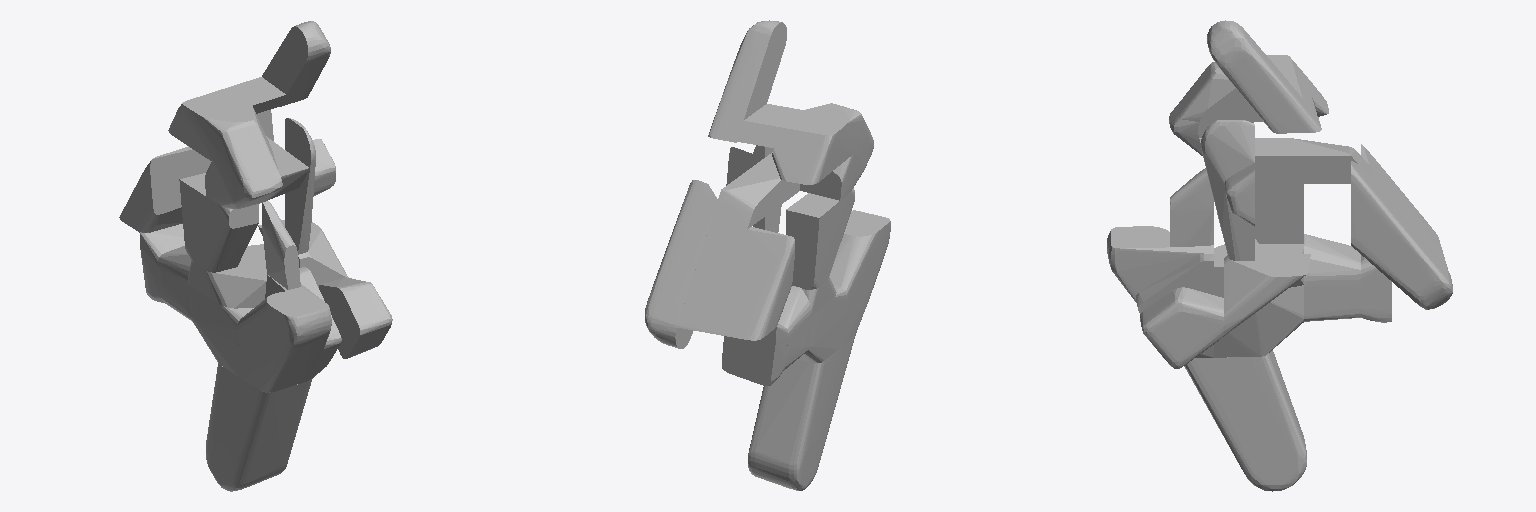
--- Render facts (derived) ---
Views: 3 orthographic renders of the robot side by side, from view 1: azimuth 30°, elevation 25°; view 2: azimuth 150°, elevation 25°; view 3: azimuth 270°, elevation 25°.
Model root with 34 links and 33 joints (33 fixed), rooted at link_coacd_convex_piece_0, posed all joints at 0.
Visible links, largest first — view 1: link_coacd_convex_piece_0, link_coacd_convex_piece_12, link_coacd_convex_piece_14, link_coacd_convex_piece_30, link_coacd_convex_piece_20, link_coacd_convex_piece_10, link_coacd_convex_piece_4, link_coacd_convex_piece_19, link_coacd_convex_piece_21, link_coacd_convex_piece_7, link_coacd_convex_piece_29, link_coacd_convex_piece_33 (+8 smaller); view 2: link_coacd_convex_piece_20, link_coacd_convex_piece_0, link_coacd_convex_piece_1, link_coacd_convex_piece_12, link_coacd_convex_piece_4, link_coacd_convex_piece_30, link_coacd_convex_piece_14, link_coacd_convex_piece_13, link_coacd_convex_piece_28, link_coacd_convex_piece_21, link_coacd_convex_piece_17, link_coacd_convex_piece_29 (+4 smaller); view 3: link_coacd_convex_piece_0, link_coacd_convex_piece_1, link_coacd_convex_piece_4, link_coacd_convex_piece_10, link_coacd_convex_piece_7, link_coacd_convex_piece_13, link_coacd_convex_piece_17, link_coacd_convex_piece_3, link_coacd_convex_piece_12, link_coacd_convex_piece_21, link_coacd_convex_piece_25, link_coacd_convex_piece_30 (+8 smaller).
Link boxes in pixels (x1,y1,x2,y2): link_coacd_convex_piece_0: (206,363,311,491); link_coacd_convex_piece_12: (168,88,278,179); link_coacd_convex_piece_14: (238,291,315,392); link_coacd_convex_piece_30: (179,173,258,272); link_coacd_convex_piece_20: (119,146,211,232); link_coacd_convex_piece_10: (319,277,392,358); link_coacd_convex_piece_4: (262,21,330,106); link_coacd_convex_piece_19: (188,244,266,308); link_coacd_convex_piece_21: (189,285,253,379); link_coacd_convex_piece_7: (285,118,315,254); link_coacd_convex_piece_29: (205,162,282,208); link_coacd_convex_piece_33: (262,201,300,289); link_coacd_convex_piece_20: (677,223,794,340); link_coacd_convex_piece_0: (748,334,855,490); link_coacd_convex_piece_1: (645,180,717,348); link_coacd_convex_piece_12: (772,103,871,184); link_coacd_convex_piece_4: (708,20,786,142); link_coacd_convex_piece_30: (786,188,854,289); link_coacd_convex_piece_14: (829,214,890,345); link_coacd_convex_piece_13: (711,152,799,229); link_coacd_convex_piece_28: (722,324,787,385); link_coacd_convex_piece_21: (799,284,846,362); link_coacd_convex_piece_17: (778,286,810,369); link_coacd_convex_piece_29: (800,137,873,200); link_coacd_convex_piece_0: (1184,350,1306,491); link_coacd_convex_piece_1: (1351,161,1452,309); link_coacd_convex_piece_4: (1207,20,1321,133); link_coacd_convex_piece_10: (1140,287,1223,368); link_coacd_convex_piece_7: (1201,120,1254,260); link_coacd_convex_piece_13: (1199,138,1374,183); link_coacd_convex_piece_17: (1304,234,1360,321); link_coacd_convex_piece_3: (1224,254,1310,335); link_coacd_convex_piece_12: (1178,55,1328,121); link_coacd_convex_piece_21: (1214,285,1303,357); link_coacd_convex_piece_25: (1108,240,1213,301); link_coacd_convex_piece_30: (1255,184,1303,243).
Size in the robot's own frame: 0.0387 by 0.0782 by 0.1194 metres.
Meshes: 34 distinct files referenced, 21 mesh visuals loaded (21 OBJ); not drawn: 13 (reference not matched to a file when rendering).

The robot description file, URDF, robot "root":
<robot name="root">
  <link name="link_coacd_convex_piece_0">
    <inertial>
      <origin xyz="0 0 0" rpy="0 0 0"/>
      <inertia ixx="1.10E-08" ixy="-1.74E-10" ixz="-1.11E-09" iyy="1.06E-08" iyz="-1.51E-09" izz="7.00E-10"/>
    </inertial>
    <visual>
      <origin xyz="0 0 0" rpy="0 0 0"/>
      <geometry>
        <mesh filename="coacd_convex_piece_0.obj" scale="1.0000E+00 1.0000E+00 1.0000E+00"/>
      </geometry>
      <material name="">
        <color rgba="7.50E-01 7.50E-01 7.50E-01 1"/>
      </material>
    </visual>
    <collision>
      <origin xyz="0 0 0" rpy="0 0 0"/>
      <geometry>
        <mesh filename="coacd_convex_piece_0.obj" scale="1.0000E+00 1.0000E+00 1.0000E+00"/>
      </geometry>
    </collision>
  </link>
  <link name="link_coacd_convex_piece_1">
    <inertial>
      <origin xyz="0 0 0" rpy="0 0 0"/>
      <inertia ixx="1.89E-09" ixy="-5.83E-10" ixz="-1.59E-10" iyy="3.74E-10" iyz="-2.65E-10" izz="1.94E-09"/>
    </inertial>
    <visual>
      <origin xyz="0 0 0" rpy="0 0 0"/>
      <geometry>
        <mesh filename="coacd_convex_piece_1.obj" scale="1.0000E+00 1.0000E+00 1.0000E+00"/>
      </geometry>
      <material name="">
        <color rgba="7.50E-01 7.50E-01 7.50E-01 1"/>
      </material>
    </visual>
    <collision>
      <origin xyz="0 0 0" rpy="0 0 0"/>
      <geometry>
        <mesh filename="coacd_convex_piece_1.obj" scale="1.0000E+00 1.0000E+00 1.0000E+00"/>
      </geometry>
    </collision>
  </link>
  <joint name="link_coacd_convex_piece_1_joint" type="fixed">
    <origin xyz="0 0 0" rpy="0 0 0"/>
    <parent link="link_coacd_convex_piece_0"/>
    <child link="link_coacd_convex_piece_1"/>
  </joint>
  <link name="link_coacd_convex_piece_2">
    <inertial>
      <origin xyz="0 0 0" rpy="0 0 0"/>
      <inertia ixx="1.14E-10" ixy="-6.28E-13" ixz="-2.78E-11" iyy="1.17E-10" iyz="-2.30E-12" izz="8.78E-12"/>
    </inertial>
    <visual>
      <origin xyz="0 0 0" rpy="0 0 0"/>
      <geometry>
        <mesh filename="coacd_convex_piece_2.obj" scale="1.0000E+00 1.0000E+00 1.0000E+00"/>
      </geometry>
      <material name="">
        <color rgba="7.50E-01 7.50E-01 7.50E-01 1"/>
      </material>
    </visual>
    <collision>
      <origin xyz="0 0 0" rpy="0 0 0"/>
      <geometry>
        <mesh filename="coacd_convex_piece_2.obj" scale="1.0000E+00 1.0000E+00 1.0000E+00"/>
      </geometry>
    </collision>
  </link>
  <joint name="link_coacd_convex_piece_2_joint" type="fixed">
    <origin xyz="0 0 0" rpy="0 0 0"/>
    <parent link="link_coacd_convex_piece_1"/>
    <child link="link_coacd_convex_piece_2"/>
  </joint>
  <link name="link_coacd_convex_piece_3">
    <inertial>
      <origin xyz="0 0 0" rpy="0 0 0"/>
      <inertia ixx="6.95E-11" ixy="7.54E-11" ixz="3.57E-11" iyy="1.37E-10" iyz="-4.54E-11" izz="1.99E-10"/>
    </inertial>
    <visual>
      <origin xyz="0 0 0" rpy="0 0 0"/>
      <geometry>
        <mesh filename="coacd_convex_piece_3.obj" scale="1.0000E+00 1.0000E+00 1.0000E+00"/>
      </geometry>
      <material name="">
        <color rgba="7.50E-01 7.50E-01 7.50E-01 1"/>
      </material>
    </visual>
    <collision>
      <origin xyz="0 0 0" rpy="0 0 0"/>
      <geometry>
        <mesh filename="coacd_convex_piece_3.obj" scale="1.0000E+00 1.0000E+00 1.0000E+00"/>
      </geometry>
    </collision>
  </link>
  <joint name="link_coacd_convex_piece_3_joint" type="fixed">
    <origin xyz="0 0 0" rpy="0 0 0"/>
    <parent link="link_coacd_convex_piece_2"/>
    <child link="link_coacd_convex_piece_3"/>
  </joint>
  <link name="link_coacd_convex_piece_4">
    <inertial>
      <origin xyz="0 0 0" rpy="0 0 0"/>
      <inertia ixx="3.30E-09" ixy="5.85E-11" ixz="-5.91E-10" iyy="3.32E-09" iyz="3.61E-10" izz="1.79E-10"/>
    </inertial>
    <visual>
      <origin xyz="0 0 0" rpy="0 0 0"/>
      <geometry>
        <mesh filename="coacd_convex_piece_4.obj" scale="1.0000E+00 1.0000E+00 1.0000E+00"/>
      </geometry>
      <material name="">
        <color rgba="7.50E-01 7.50E-01 7.50E-01 1"/>
      </material>
    </visual>
    <collision>
      <origin xyz="0 0 0" rpy="0 0 0"/>
      <geometry>
        <mesh filename="coacd_convex_piece_4.obj" scale="1.0000E+00 1.0000E+00 1.0000E+00"/>
      </geometry>
    </collision>
  </link>
  <joint name="link_coacd_convex_piece_4_joint" type="fixed">
    <origin xyz="0 0 0" rpy="0 0 0"/>
    <parent link="link_coacd_convex_piece_3"/>
    <child link="link_coacd_convex_piece_4"/>
  </joint>
  <link name="link_coacd_convex_piece_5">
    <inertial>
      <origin xyz="0 0 0" rpy="0 0 0"/>
      <inertia ixx="2.37E-10" ixy="-4.33E-12" ixz="4.08E-11" iyy="2.45E-10" iyz="2.05E-11" izz="1.71E-11"/>
    </inertial>
    <visual>
      <origin xyz="0 0 0" rpy="0 0 0"/>
      <geometry>
        <mesh filename="coacd_convex_piece_5.obj" scale="1.0000E+00 1.0000E+00 1.0000E+00"/>
      </geometry>
      <material name="">
        <color rgba="7.50E-01 7.50E-01 7.50E-01 1"/>
      </material>
    </visual>
    <collision>
      <origin xyz="0 0 0" rpy="0 0 0"/>
      <geometry>
        <mesh filename="coacd_convex_piece_5.obj" scale="1.0000E+00 1.0000E+00 1.0000E+00"/>
      </geometry>
    </collision>
  </link>
  <joint name="link_coacd_convex_piece_5_joint" type="fixed">
    <origin xyz="0 0 0" rpy="0 0 0"/>
    <parent link="link_coacd_convex_piece_4"/>
    <child link="link_coacd_convex_piece_5"/>
  </joint>
  <link name="link_coacd_convex_piece_6">
    <inertial>
      <origin xyz="0 0 0" rpy="0 0 0"/>
      <inertia ixx="5.84E-10" ixy="1.48E-10" ixz="6.36E-11" iyy="1.65E-10" iyz="-2.46E-10" izz="5.06E-10"/>
    </inertial>
    <visual>
      <origin xyz="0 0 0" rpy="0 0 0"/>
      <geometry>
        <mesh filename="coacd_convex_piece_6.obj" scale="1.0000E+00 1.0000E+00 1.0000E+00"/>
      </geometry>
      <material name="">
        <color rgba="7.50E-01 7.50E-01 7.50E-01 1"/>
      </material>
    </visual>
    <collision>
      <origin xyz="0 0 0" rpy="0 0 0"/>
      <geometry>
        <mesh filename="coacd_convex_piece_6.obj" scale="1.0000E+00 1.0000E+00 1.0000E+00"/>
      </geometry>
    </collision>
  </link>
  <joint name="link_coacd_convex_piece_6_joint" type="fixed">
    <origin xyz="0 0 0" rpy="0 0 0"/>
    <parent link="link_coacd_convex_piece_5"/>
    <child link="link_coacd_convex_piece_6"/>
  </joint>
  <link name="link_coacd_convex_piece_7">
    <inertial>
      <origin xyz="0 0 0" rpy="0 0 0"/>
      <inertia ixx="3.35E-10" ixy="4.35E-11" ixz="-8.23E-11" iyy="2.78E-10" iyz="1.29E-10" izz="9.85E-11"/>
    </inertial>
    <visual>
      <origin xyz="0 0 0" rpy="0 0 0"/>
      <geometry>
        <mesh filename="coacd_convex_piece_7.obj" scale="1.0000E+00 1.0000E+00 1.0000E+00"/>
      </geometry>
      <material name="">
        <color rgba="7.50E-01 7.50E-01 7.50E-01 1"/>
      </material>
    </visual>
    <collision>
      <origin xyz="0 0 0" rpy="0 0 0"/>
      <geometry>
        <mesh filename="coacd_convex_piece_7.obj" scale="1.0000E+00 1.0000E+00 1.0000E+00"/>
      </geometry>
    </collision>
  </link>
  <joint name="link_coacd_convex_piece_7_joint" type="fixed">
    <origin xyz="0 0 0" rpy="0 0 0"/>
    <parent link="link_coacd_convex_piece_6"/>
    <child link="link_coacd_convex_piece_7"/>
  </joint>
  <link name="link_coacd_convex_piece_8">
    <inertial>
      <origin xyz="0 0 0" rpy="0 0 0"/>
      <inertia ixx="1.38E-10" ixy="3.18E-11" ixz="-7.66E-11" iyy="1.57E-10" iyz="5.07E-11" izz="6.57E-11"/>
    </inertial>
    <visual>
      <origin xyz="0 0 0" rpy="0 0 0"/>
      <geometry>
        <mesh filename="coacd_convex_piece_8.obj" scale="1.0000E+00 1.0000E+00 1.0000E+00"/>
      </geometry>
      <material name="">
        <color rgba="7.50E-01 7.50E-01 7.50E-01 1"/>
      </material>
    </visual>
    <collision>
      <origin xyz="0 0 0" rpy="0 0 0"/>
      <geometry>
        <mesh filename="coacd_convex_piece_8.obj" scale="1.0000E+00 1.0000E+00 1.0000E+00"/>
      </geometry>
    </collision>
  </link>
  <joint name="link_coacd_convex_piece_8_joint" type="fixed">
    <origin xyz="0 0 0" rpy="0 0 0"/>
    <parent link="link_coacd_convex_piece_7"/>
    <child link="link_coacd_convex_piece_8"/>
  </joint>
  <link name="link_coacd_convex_piece_9">
    <inertial>
      <origin xyz="0 0 0" rpy="0 0 0"/>
      <inertia ixx="8.03E-09" ixy="-2.01E-10" ixz="1.08E-09" iyy="8.02E-09" iyz="1.37E-09" izz="5.84E-10"/>
    </inertial>
    <visual>
      <origin xyz="0 0 0" rpy="0 0 0"/>
      <geometry>
        <mesh filename="coacd_convex_piece_9.obj" scale="1.0000E+00 1.0000E+00 1.0000E+00"/>
      </geometry>
      <material name="">
        <color rgba="7.50E-01 7.50E-01 7.50E-01 1"/>
      </material>
    </visual>
    <collision>
      <origin xyz="0 0 0" rpy="0 0 0"/>
      <geometry>
        <mesh filename="coacd_convex_piece_9.obj" scale="1.0000E+00 1.0000E+00 1.0000E+00"/>
      </geometry>
    </collision>
  </link>
  <joint name="link_coacd_convex_piece_9_joint" type="fixed">
    <origin xyz="0 0 0" rpy="0 0 0"/>
    <parent link="link_coacd_convex_piece_8"/>
    <child link="link_coacd_convex_piece_9"/>
  </joint>
  <link name="link_coacd_convex_piece_10">
    <inertial>
      <origin xyz="0 0 0" rpy="0 0 0"/>
      <inertia ixx="8.82E-10" ixy="4.33E-10" ixz="2.24E-10" iyy="4.73E-10" iyz="-3.81E-10" izz="9.68E-10"/>
    </inertial>
    <visual>
      <origin xyz="0 0 0" rpy="0 0 0"/>
      <geometry>
        <mesh filename="coacd_convex_piece_10.obj" scale="1.0000E+00 1.0000E+00 1.0000E+00"/>
      </geometry>
      <material name="">
        <color rgba="7.50E-01 7.50E-01 7.50E-01 1"/>
      </material>
    </visual>
    <collision>
      <origin xyz="0 0 0" rpy="0 0 0"/>
      <geometry>
        <mesh filename="coacd_convex_piece_10.obj" scale="1.0000E+00 1.0000E+00 1.0000E+00"/>
      </geometry>
    </collision>
  </link>
  <joint name="link_coacd_convex_piece_10_joint" type="fixed">
    <origin xyz="0 0 0" rpy="0 0 0"/>
    <parent link="link_coacd_convex_piece_9"/>
    <child link="link_coacd_convex_piece_10"/>
  </joint>
  <link name="link_coacd_convex_piece_11">
    <inertial>
      <origin xyz="0 0 0" rpy="0 0 0"/>
      <inertia ixx="5.35E-11" ixy="-2.00E-11" ixz="1.71E-11" iyy="3.63E-11" iyz="2.74E-11" izz="4.38E-11"/>
    </inertial>
    <visual>
      <origin xyz="0 0 0" rpy="0 0 0"/>
      <geometry>
        <mesh filename="coacd_convex_piece_11.obj" scale="1.0000E+00 1.0000E+00 1.0000E+00"/>
      </geometry>
      <material name="">
        <color rgba="7.50E-01 7.50E-01 7.50E-01 1"/>
      </material>
    </visual>
    <collision>
      <origin xyz="0 0 0" rpy="0 0 0"/>
      <geometry>
        <mesh filename="coacd_convex_piece_11.obj" scale="1.0000E+00 1.0000E+00 1.0000E+00"/>
      </geometry>
    </collision>
  </link>
  <joint name="link_coacd_convex_piece_11_joint" type="fixed">
    <origin xyz="0 0 0" rpy="0 0 0"/>
    <parent link="link_coacd_convex_piece_10"/>
    <child link="link_coacd_convex_piece_11"/>
  </joint>
  <link name="link_coacd_convex_piece_12">
    <inertial>
      <origin xyz="0 0 0" rpy="0 0 0"/>
      <inertia ixx="3.13E-09" ixy="-1.59E-10" ixz="9.92E-10" iyy="3.28E-09" iyz="4.65E-10" izz="5.92E-10"/>
    </inertial>
    <visual>
      <origin xyz="0 0 0" rpy="0 0 0"/>
      <geometry>
        <mesh filename="coacd_convex_piece_12.obj" scale="1.0000E+00 1.0000E+00 1.0000E+00"/>
      </geometry>
      <material name="">
        <color rgba="7.50E-01 7.50E-01 7.50E-01 1"/>
      </material>
    </visual>
    <collision>
      <origin xyz="0 0 0" rpy="0 0 0"/>
      <geometry>
        <mesh filename="coacd_convex_piece_12.obj" scale="1.0000E+00 1.0000E+00 1.0000E+00"/>
      </geometry>
    </collision>
  </link>
  <joint name="link_coacd_convex_piece_12_joint" type="fixed">
    <origin xyz="0 0 0" rpy="0 0 0"/>
    <parent link="link_coacd_convex_piece_11"/>
    <child link="link_coacd_convex_piece_12"/>
  </joint>
  <link name="link_coacd_convex_piece_13">
    <inertial>
      <origin xyz="0 0 0" rpy="0 0 0"/>
      <inertia ixx="9.59E-10" ixy="1.23E-12" ixz="-3.57E-12" iyy="7.96E-10" iyz="-3.59E-11" izz="1.67E-10"/>
    </inertial>
    <visual>
      <origin xyz="0 0 0" rpy="0 0 0"/>
      <geometry>
        <mesh filename="coacd_convex_piece_13.obj" scale="1.0000E+00 1.0000E+00 1.0000E+00"/>
      </geometry>
      <material name="">
        <color rgba="7.50E-01 7.50E-01 7.50E-01 1"/>
      </material>
    </visual>
    <collision>
      <origin xyz="0 0 0" rpy="0 0 0"/>
      <geometry>
        <mesh filename="coacd_convex_piece_13.obj" scale="1.0000E+00 1.0000E+00 1.0000E+00"/>
      </geometry>
    </collision>
  </link>
  <joint name="link_coacd_convex_piece_13_joint" type="fixed">
    <origin xyz="0 0 0" rpy="0 0 0"/>
    <parent link="link_coacd_convex_piece_12"/>
    <child link="link_coacd_convex_piece_13"/>
  </joint>
  <link name="link_coacd_convex_piece_14">
    <inertial>
      <origin xyz="0 0 0" rpy="0 0 0"/>
      <inertia ixx="1.63E-09" ixy="-4.79E-10" ixz="-2.41E-10" iyy="4.69E-10" iyz="-5.33E-10" izz="1.52E-09"/>
    </inertial>
    <visual>
      <origin xyz="0 0 0" rpy="0 0 0"/>
      <geometry>
        <mesh filename="coacd_convex_piece_14.obj" scale="1.0000E+00 1.0000E+00 1.0000E+00"/>
      </geometry>
      <material name="">
        <color rgba="7.50E-01 7.50E-01 7.50E-01 1"/>
      </material>
    </visual>
    <collision>
      <origin xyz="0 0 0" rpy="0 0 0"/>
      <geometry>
        <mesh filename="coacd_convex_piece_14.obj" scale="1.0000E+00 1.0000E+00 1.0000E+00"/>
      </geometry>
    </collision>
  </link>
  <joint name="link_coacd_convex_piece_14_joint" type="fixed">
    <origin xyz="0 0 0" rpy="0 0 0"/>
    <parent link="link_coacd_convex_piece_13"/>
    <child link="link_coacd_convex_piece_14"/>
  </joint>
  <link name="link_coacd_convex_piece_15">
    <inertial>
      <origin xyz="0 0 0" rpy="0 0 0"/>
      <inertia ixx="8.56E-10" ixy="2.65E-10" ixz="1.87E-10" iyy="6.19E-10" iyz="-4.30E-10" izz="7.41E-10"/>
    </inertial>
    <visual>
      <origin xyz="0 0 0" rpy="0 0 0"/>
      <geometry>
        <mesh filename="coacd_convex_piece_15.obj" scale="1.0000E+00 1.0000E+00 1.0000E+00"/>
      </geometry>
      <material name="">
        <color rgba="7.50E-01 7.50E-01 7.50E-01 1"/>
      </material>
    </visual>
    <collision>
      <origin xyz="0 0 0" rpy="0 0 0"/>
      <geometry>
        <mesh filename="coacd_convex_piece_15.obj" scale="1.0000E+00 1.0000E+00 1.0000E+00"/>
      </geometry>
    </collision>
  </link>
  <joint name="link_coacd_convex_piece_15_joint" type="fixed">
    <origin xyz="0 0 0" rpy="0 0 0"/>
    <parent link="link_coacd_convex_piece_14"/>
    <child link="link_coacd_convex_piece_15"/>
  </joint>
  <link name="link_coacd_convex_piece_16">
    <inertial>
      <origin xyz="0 0 0" rpy="0 0 0"/>
      <inertia ixx="1.21E-09" ixy="-1.54E-10" ixz="-6.24E-10" iyy="1.43E-09" iyz="-2.61E-10" izz="5.58E-10"/>
    </inertial>
    <visual>
      <origin xyz="0 0 0" rpy="0 0 0"/>
      <geometry>
        <mesh filename="coacd_convex_piece_16.obj" scale="1.0000E+00 1.0000E+00 1.0000E+00"/>
      </geometry>
      <material name="">
        <color rgba="7.50E-01 7.50E-01 7.50E-01 1"/>
      </material>
    </visual>
    <collision>
      <origin xyz="0 0 0" rpy="0 0 0"/>
      <geometry>
        <mesh filename="coacd_convex_piece_16.obj" scale="1.0000E+00 1.0000E+00 1.0000E+00"/>
      </geometry>
    </collision>
  </link>
  <joint name="link_coacd_convex_piece_16_joint" type="fixed">
    <origin xyz="0 0 0" rpy="0 0 0"/>
    <parent link="link_coacd_convex_piece_15"/>
    <child link="link_coacd_convex_piece_16"/>
  </joint>
  <link name="link_coacd_convex_piece_17">
    <inertial>
      <origin xyz="0 0 0" rpy="0 0 0"/>
      <inertia ixx="5.18E-10" ixy="1.91E-10" ixz="-2.03E-10" iyy="3.77E-10" iyz="2.48E-10" izz="4.38E-10"/>
    </inertial>
    <visual>
      <origin xyz="0 0 0" rpy="0 0 0"/>
      <geometry>
        <mesh filename="coacd_convex_piece_17.obj" scale="1.0000E+00 1.0000E+00 1.0000E+00"/>
      </geometry>
      <material name="">
        <color rgba="7.50E-01 7.50E-01 7.50E-01 1"/>
      </material>
    </visual>
    <collision>
      <origin xyz="0 0 0" rpy="0 0 0"/>
      <geometry>
        <mesh filename="coacd_convex_piece_17.obj" scale="1.0000E+00 1.0000E+00 1.0000E+00"/>
      </geometry>
    </collision>
  </link>
  <joint name="link_coacd_convex_piece_17_joint" type="fixed">
    <origin xyz="0 0 0" rpy="0 0 0"/>
    <parent link="link_coacd_convex_piece_16"/>
    <child link="link_coacd_convex_piece_17"/>
  </joint>
  <link name="link_coacd_convex_piece_18">
    <inertial>
      <origin xyz="0 0 0" rpy="0 0 0"/>
      <inertia ixx="8.36E-10" ixy="-5.83E-11" ixz="-2.36E-10" iyy="7.69E-10" iyz="-1.83E-10" izz="1.92E-10"/>
    </inertial>
    <visual>
      <origin xyz="0 0 0" rpy="0 0 0"/>
      <geometry>
        <mesh filename="coacd_convex_piece_18.obj" scale="1.0000E+00 1.0000E+00 1.0000E+00"/>
      </geometry>
      <material name="">
        <color rgba="7.50E-01 7.50E-01 7.50E-01 1"/>
      </material>
    </visual>
    <collision>
      <origin xyz="0 0 0" rpy="0 0 0"/>
      <geometry>
        <mesh filename="coacd_convex_piece_18.obj" scale="1.0000E+00 1.0000E+00 1.0000E+00"/>
      </geometry>
    </collision>
  </link>
  <joint name="link_coacd_convex_piece_18_joint" type="fixed">
    <origin xyz="0 0 0" rpy="0 0 0"/>
    <parent link="link_coacd_convex_piece_17"/>
    <child link="link_coacd_convex_piece_18"/>
  </joint>
  <link name="link_coacd_convex_piece_19">
    <inertial>
      <origin xyz="0 0 0" rpy="0 0 0"/>
      <inertia ixx="9.37E-11" ixy="-1.92E-11" ixz="-6.92E-11" iyy="8.79E-11" iyz="-4.63E-11" izz="1.61E-10"/>
    </inertial>
    <visual>
      <origin xyz="0 0 0" rpy="0 0 0"/>
      <geometry>
        <mesh filename="coacd_convex_piece_19.obj" scale="1.0000E+00 1.0000E+00 1.0000E+00"/>
      </geometry>
      <material name="">
        <color rgba="7.50E-01 7.50E-01 7.50E-01 1"/>
      </material>
    </visual>
    <collision>
      <origin xyz="0 0 0" rpy="0 0 0"/>
      <geometry>
        <mesh filename="coacd_convex_piece_19.obj" scale="1.0000E+00 1.0000E+00 1.0000E+00"/>
      </geometry>
    </collision>
  </link>
  <joint name="link_coacd_convex_piece_19_joint" type="fixed">
    <origin xyz="0 0 0" rpy="0 0 0"/>
    <parent link="link_coacd_convex_piece_18"/>
    <child link="link_coacd_convex_piece_19"/>
  </joint>
  <link name="link_coacd_convex_piece_20">
    <inertial>
      <origin xyz="0 0 0" rpy="0 0 0"/>
      <inertia ixx="2.14E-09" ixy="4.79E-10" ixz="6.40E-11" iyy="3.36E-10" iyz="-4.14E-10" izz="2.24E-09"/>
    </inertial>
    <visual>
      <origin xyz="0 0 0" rpy="0 0 0"/>
      <geometry>
        <mesh filename="coacd_convex_piece_20.obj" scale="1.0000E+00 1.0000E+00 1.0000E+00"/>
      </geometry>
      <material name="">
        <color rgba="7.50E-01 7.50E-01 7.50E-01 1"/>
      </material>
    </visual>
    <collision>
      <origin xyz="0 0 0" rpy="0 0 0"/>
      <geometry>
        <mesh filename="coacd_convex_piece_20.obj" scale="1.0000E+00 1.0000E+00 1.0000E+00"/>
      </geometry>
    </collision>
  </link>
  <joint name="link_coacd_convex_piece_20_joint" type="fixed">
    <origin xyz="0 0 0" rpy="0 0 0"/>
    <parent link="link_coacd_convex_piece_19"/>
    <child link="link_coacd_convex_piece_20"/>
  </joint>
  <link name="link_coacd_convex_piece_21">
    <inertial>
      <origin xyz="0 0 0" rpy="0 0 0"/>
      <inertia ixx="1.21E-09" ixy="-9.12E-11" ixz="-3.88E-10" iyy="1.15E-09" iyz="-3.67E-10" izz="4.02E-10"/>
    </inertial>
    <visual>
      <origin xyz="0 0 0" rpy="0 0 0"/>
      <geometry>
        <mesh filename="coacd_convex_piece_21.obj" scale="1.0000E+00 1.0000E+00 1.0000E+00"/>
      </geometry>
      <material name="">
        <color rgba="7.50E-01 7.50E-01 7.50E-01 1"/>
      </material>
    </visual>
    <collision>
      <origin xyz="0 0 0" rpy="0 0 0"/>
      <geometry>
        <mesh filename="coacd_convex_piece_21.obj" scale="1.0000E+00 1.0000E+00 1.0000E+00"/>
      </geometry>
    </collision>
  </link>
  <joint name="link_coacd_convex_piece_21_joint" type="fixed">
    <origin xyz="0 0 0" rpy="0 0 0"/>
    <parent link="link_coacd_convex_piece_20"/>
    <child link="link_coacd_convex_piece_21"/>
  </joint>
  <link name="link_coacd_convex_piece_22">
    <inertial>
      <origin xyz="0 0 0" rpy="0 0 0"/>
      <inertia ixx="7.02E-10" ixy="4.30E-11" ixz="1.06E-11" iyy="1.95E-10" iyz="-3.07E-10" izz="5.03E-10"/>
    </inertial>
    <visual>
      <origin xyz="0 0 0" rpy="0 0 0"/>
      <geometry>
        <mesh filename="coacd_convex_piece_22.obj" scale="1.0000E+00 1.0000E+00 1.0000E+00"/>
      </geometry>
      <material name="">
        <color rgba="7.50E-01 7.50E-01 7.50E-01 1"/>
      </material>
    </visual>
    <collision>
      <origin xyz="0 0 0" rpy="0 0 0"/>
      <geometry>
        <mesh filename="coacd_convex_piece_22.obj" scale="1.0000E+00 1.0000E+00 1.0000E+00"/>
      </geometry>
    </collision>
  </link>
  <joint name="link_coacd_convex_piece_22_joint" type="fixed">
    <origin xyz="0 0 0" rpy="0 0 0"/>
    <parent link="link_coacd_convex_piece_21"/>
    <child link="link_coacd_convex_piece_22"/>
  </joint>
  <link name="link_coacd_convex_piece_23">
    <inertial>
      <origin xyz="0 0 0" rpy="0 0 0"/>
      <inertia ixx="5.76E-10" ixy="-1.51E-10" ixz="9.67E-12" iyy="3.80E-11" iyz="6.35E-11" izz="6.22E-10"/>
    </inertial>
    <visual>
      <origin xyz="0 0 0" rpy="0 0 0"/>
      <geometry>
        <mesh filename="coacd_convex_piece_23.obj" scale="1.0000E+00 1.0000E+00 1.0000E+00"/>
      </geometry>
      <material name="">
        <color rgba="7.50E-01 7.50E-01 7.50E-01 1"/>
      </material>
    </visual>
    <collision>
      <origin xyz="0 0 0" rpy="0 0 0"/>
      <geometry>
        <mesh filename="coacd_convex_piece_23.obj" scale="1.0000E+00 1.0000E+00 1.0000E+00"/>
      </geometry>
    </collision>
  </link>
  <joint name="link_coacd_convex_piece_23_joint" type="fixed">
    <origin xyz="0 0 0" rpy="0 0 0"/>
    <parent link="link_coacd_convex_piece_22"/>
    <child link="link_coacd_convex_piece_23"/>
  </joint>
  <link name="link_coacd_convex_piece_24">
    <inertial>
      <origin xyz="0 0 0" rpy="0 0 0"/>
      <inertia ixx="1.25E-09" ixy="1.24E-10" ixz="5.37E-10" iyy="1.41E-09" iyz="-2.43E-10" izz="4.15E-10"/>
    </inertial>
    <visual>
      <origin xyz="0 0 0" rpy="0 0 0"/>
      <geometry>
        <mesh filename="coacd_convex_piece_24.obj" scale="1.0000E+00 1.0000E+00 1.0000E+00"/>
      </geometry>
      <material name="">
        <color rgba="7.50E-01 7.50E-01 7.50E-01 1"/>
      </material>
    </visual>
    <collision>
      <origin xyz="0 0 0" rpy="0 0 0"/>
      <geometry>
        <mesh filename="coacd_convex_piece_24.obj" scale="1.0000E+00 1.0000E+00 1.0000E+00"/>
      </geometry>
    </collision>
  </link>
  <joint name="link_coacd_convex_piece_24_joint" type="fixed">
    <origin xyz="0 0 0" rpy="0 0 0"/>
    <parent link="link_coacd_convex_piece_23"/>
    <child link="link_coacd_convex_piece_24"/>
  </joint>
  <link name="link_coacd_convex_piece_25">
    <inertial>
      <origin xyz="0 0 0" rpy="0 0 0"/>
      <inertia ixx="1.49E-09" ixy="-1.67E-10" ixz="-1.02E-10" iyy="2.97E-10" iyz="-5.00E-10" izz="1.23E-09"/>
    </inertial>
    <visual>
      <origin xyz="0 0 0" rpy="0 0 0"/>
      <geometry>
        <mesh filename="coacd_convex_piece_25.obj" scale="1.0000E+00 1.0000E+00 1.0000E+00"/>
      </geometry>
      <material name="">
        <color rgba="7.50E-01 7.50E-01 7.50E-01 1"/>
      </material>
    </visual>
    <collision>
      <origin xyz="0 0 0" rpy="0 0 0"/>
      <geometry>
        <mesh filename="coacd_convex_piece_25.obj" scale="1.0000E+00 1.0000E+00 1.0000E+00"/>
      </geometry>
    </collision>
  </link>
  <joint name="link_coacd_convex_piece_25_joint" type="fixed">
    <origin xyz="0 0 0" rpy="0 0 0"/>
    <parent link="link_coacd_convex_piece_24"/>
    <child link="link_coacd_convex_piece_25"/>
  </joint>
  <link name="link_coacd_convex_piece_26">
    <inertial>
      <origin xyz="0 0 0" rpy="0 0 0"/>
      <inertia ixx="2.17E-09" ixy="4.41E-10" ixz="-1.61E-10" iyy="2.96E-10" iyz="5.60E-10" izz="2.18E-09"/>
    </inertial>
    <visual>
      <origin xyz="0 0 0" rpy="0 0 0"/>
      <geometry>
        <mesh filename="coacd_convex_piece_26.obj" scale="1.0000E+00 1.0000E+00 1.0000E+00"/>
      </geometry>
      <material name="">
        <color rgba="7.50E-01 7.50E-01 7.50E-01 1"/>
      </material>
    </visual>
    <collision>
      <origin xyz="0 0 0" rpy="0 0 0"/>
      <geometry>
        <mesh filename="coacd_convex_piece_26.obj" scale="1.0000E+00 1.0000E+00 1.0000E+00"/>
      </geometry>
    </collision>
  </link>
  <joint name="link_coacd_convex_piece_26_joint" type="fixed">
    <origin xyz="0 0 0" rpy="0 0 0"/>
    <parent link="link_coacd_convex_piece_25"/>
    <child link="link_coacd_convex_piece_26"/>
  </joint>
  <link name="link_coacd_convex_piece_27">
    <inertial>
      <origin xyz="0 0 0" rpy="0 0 0"/>
      <inertia ixx="5.21E-10" ixy="4.74E-13" ixz="2.83E-12" iyy="5.17E-10" iyz="-7.06E-12" izz="4.77E-12"/>
    </inertial>
    <visual>
      <origin xyz="0 0 0" rpy="0 0 0"/>
      <geometry>
        <mesh filename="coacd_convex_piece_27.obj" scale="1.0000E+00 1.0000E+00 1.0000E+00"/>
      </geometry>
      <material name="">
        <color rgba="7.50E-01 7.50E-01 7.50E-01 1"/>
      </material>
    </visual>
    <collision>
      <origin xyz="0 0 0" rpy="0 0 0"/>
      <geometry>
        <mesh filename="coacd_convex_piece_27.obj" scale="1.0000E+00 1.0000E+00 1.0000E+00"/>
      </geometry>
    </collision>
  </link>
  <joint name="link_coacd_convex_piece_27_joint" type="fixed">
    <origin xyz="0 0 0" rpy="0 0 0"/>
    <parent link="link_coacd_convex_piece_26"/>
    <child link="link_coacd_convex_piece_27"/>
  </joint>
  <link name="link_coacd_convex_piece_28">
    <inertial>
      <origin xyz="0 0 0" rpy="0 0 0"/>
      <inertia ixx="7.01E-10" ixy="2.22E-10" ixz="-1.29E-10" iyy="2.43E-10" iyz="2.84E-10" izz="6.55E-10"/>
    </inertial>
    <visual>
      <origin xyz="0 0 0" rpy="0 0 0"/>
      <geometry>
        <mesh filename="coacd_convex_piece_28.obj" scale="1.0000E+00 1.0000E+00 1.0000E+00"/>
      </geometry>
      <material name="">
        <color rgba="7.50E-01 7.50E-01 7.50E-01 1"/>
      </material>
    </visual>
    <collision>
      <origin xyz="0 0 0" rpy="0 0 0"/>
      <geometry>
        <mesh filename="coacd_convex_piece_28.obj" scale="1.0000E+00 1.0000E+00 1.0000E+00"/>
      </geometry>
    </collision>
  </link>
  <joint name="link_coacd_convex_piece_28_joint" type="fixed">
    <origin xyz="0 0 0" rpy="0 0 0"/>
    <parent link="link_coacd_convex_piece_27"/>
    <child link="link_coacd_convex_piece_28"/>
  </joint>
  <link name="link_coacd_convex_piece_29">
    <inertial>
      <origin xyz="0 0 0" rpy="0 0 0"/>
      <inertia ixx="1.15E-09" ixy="-2.20E-10" ixz="3.77E-10" iyy="1.03E-09" iyz="4.88E-10" izz="4.92E-10"/>
    </inertial>
    <visual>
      <origin xyz="0 0 0" rpy="0 0 0"/>
      <geometry>
        <mesh filename="coacd_convex_piece_29.obj" scale="1.0000E+00 1.0000E+00 1.0000E+00"/>
      </geometry>
      <material name="">
        <color rgba="7.50E-01 7.50E-01 7.50E-01 1"/>
      </material>
    </visual>
    <collision>
      <origin xyz="0 0 0" rpy="0 0 0"/>
      <geometry>
        <mesh filename="coacd_convex_piece_29.obj" scale="1.0000E+00 1.0000E+00 1.0000E+00"/>
      </geometry>
    </collision>
  </link>
  <joint name="link_coacd_convex_piece_29_joint" type="fixed">
    <origin xyz="0 0 0" rpy="0 0 0"/>
    <parent link="link_coacd_convex_piece_28"/>
    <child link="link_coacd_convex_piece_29"/>
  </joint>
  <link name="link_coacd_convex_piece_30">
    <inertial>
      <origin xyz="0 0 0" rpy="0 0 0"/>
      <inertia ixx="2.99E-10" ixy="-7.05E-11" ixz="2.26E-10" iyy="5.24E-10" iyz="7.20E-11" izz="3.77E-10"/>
    </inertial>
    <visual>
      <origin xyz="0 0 0" rpy="0 0 0"/>
      <geometry>
        <mesh filename="coacd_convex_piece_30.obj" scale="1.0000E+00 1.0000E+00 1.0000E+00"/>
      </geometry>
      <material name="">
        <color rgba="7.50E-01 7.50E-01 7.50E-01 1"/>
      </material>
    </visual>
    <collision>
      <origin xyz="0 0 0" rpy="0 0 0"/>
      <geometry>
        <mesh filename="coacd_convex_piece_30.obj" scale="1.0000E+00 1.0000E+00 1.0000E+00"/>
      </geometry>
    </collision>
  </link>
  <joint name="link_coacd_convex_piece_30_joint" type="fixed">
    <origin xyz="0 0 0" rpy="0 0 0"/>
    <parent link="link_coacd_convex_piece_29"/>
    <child link="link_coacd_convex_piece_30"/>
  </joint>
  <link name="link_coacd_convex_piece_31">
    <inertial>
      <origin xyz="0 0 0" rpy="0 0 0"/>
      <inertia ixx="1.90E-09" ixy="-3.32E-12" ixz="-4.72E-12" iyy="1.76E-09" iyz="1.80E-10" izz="1.46E-10"/>
    </inertial>
    <visual>
      <origin xyz="0 0 0" rpy="0 0 0"/>
      <geometry>
        <mesh filename="coacd_convex_piece_31.obj" scale="1.0000E+00 1.0000E+00 1.0000E+00"/>
      </geometry>
      <material name="">
        <color rgba="7.50E-01 7.50E-01 7.50E-01 1"/>
      </material>
    </visual>
    <collision>
      <origin xyz="0 0 0" rpy="0 0 0"/>
      <geometry>
        <mesh filename="coacd_convex_piece_31.obj" scale="1.0000E+00 1.0000E+00 1.0000E+00"/>
      </geometry>
    </collision>
  </link>
  <joint name="link_coacd_convex_piece_31_joint" type="fixed">
    <origin xyz="0 0 0" rpy="0 0 0"/>
    <parent link="link_coacd_convex_piece_30"/>
    <child link="link_coacd_convex_piece_31"/>
  </joint>
  <link name="link_coacd_convex_piece_32">
    <inertial>
      <origin xyz="0 0 0" rpy="0 0 0"/>
      <inertia ixx="4.94E-10" ixy="-2.13E-11" ixz="8.66E-12" iyy="3.32E-10" iyz="1.24E-10" izz="2.23E-10"/>
    </inertial>
    <visual>
      <origin xyz="0 0 0" rpy="0 0 0"/>
      <geometry>
        <mesh filename="coacd_convex_piece_32.obj" scale="1.0000E+00 1.0000E+00 1.0000E+00"/>
      </geometry>
      <material name="">
        <color rgba="7.50E-01 7.50E-01 7.50E-01 1"/>
      </material>
    </visual>
    <collision>
      <origin xyz="0 0 0" rpy="0 0 0"/>
      <geometry>
        <mesh filename="coacd_convex_piece_32.obj" scale="1.0000E+00 1.0000E+00 1.0000E+00"/>
      </geometry>
    </collision>
  </link>
  <joint name="link_coacd_convex_piece_32_joint" type="fixed">
    <origin xyz="0 0 0" rpy="0 0 0"/>
    <parent link="link_coacd_convex_piece_31"/>
    <child link="link_coacd_convex_piece_32"/>
  </joint>
  <link name="link_coacd_convex_piece_33">
    <inertial>
      <origin xyz="0 0 0" rpy="0 0 0"/>
      <inertia ixx="1.59E-10" ixy="-3.41E-11" ixz="9.39E-12" iyy="2.53E-11" iyz="5.04E-11" izz="1.47E-10"/>
    </inertial>
    <visual>
      <origin xyz="0 0 0" rpy="0 0 0"/>
      <geometry>
        <mesh filename="coacd_convex_piece_33.obj" scale="1.0000E+00 1.0000E+00 1.0000E+00"/>
      </geometry>
      <material name="">
        <color rgba="7.50E-01 7.50E-01 7.50E-01 1"/>
      </material>
    </visual>
    <collision>
      <origin xyz="0 0 0" rpy="0 0 0"/>
      <geometry>
        <mesh filename="coacd_convex_piece_33.obj" scale="1.0000E+00 1.0000E+00 1.0000E+00"/>
      </geometry>
    </collision>
  </link>
  <joint name="link_coacd_convex_piece_33_joint" type="fixed">
    <origin xyz="0 0 0" rpy="0 0 0"/>
    <parent link="link_coacd_convex_piece_32"/>
    <child link="link_coacd_convex_piece_33"/>
  </joint>
</robot>
